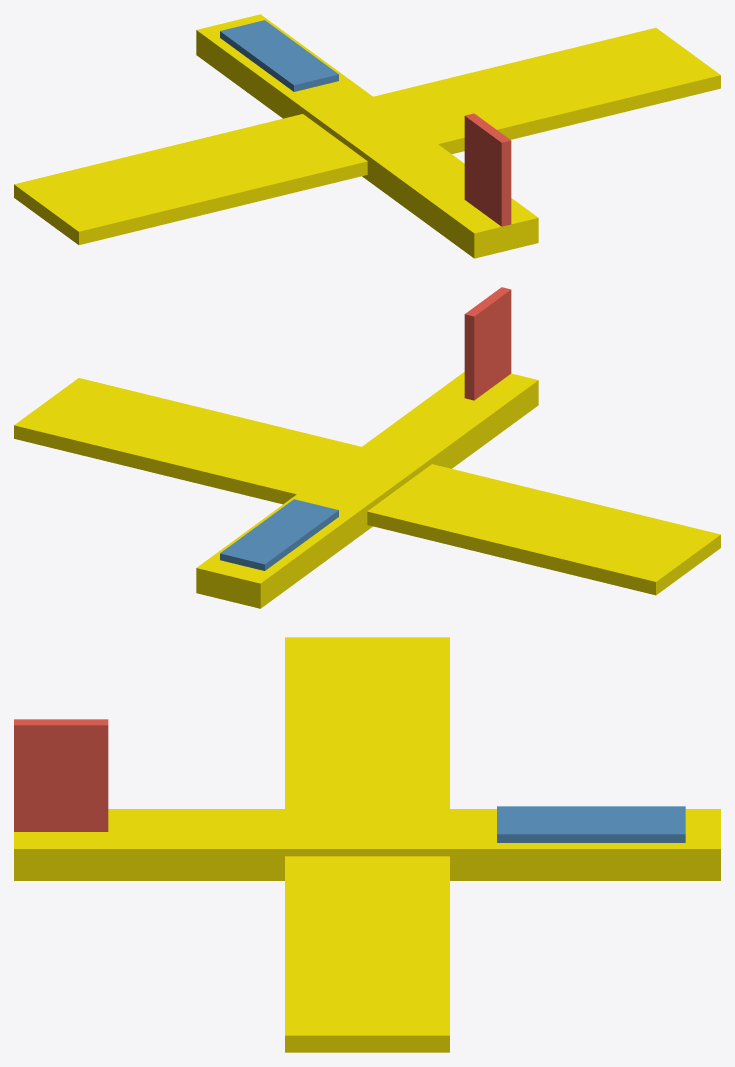
3 renders of one model, top to bottom at view 1: azimuth 30°, elevation 25°; view 2: azimuth 150°, elevation 25°; view 3: azimuth 270°, elevation 25°, orthographic. The views are drawn at different scales.
Bounding box in the file's own units: 4 × 0.65 × 3.
